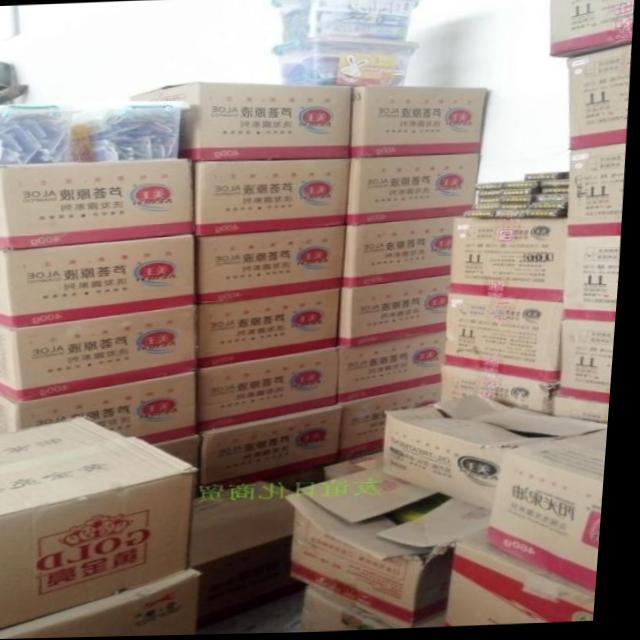box: (0, 416, 206, 632), (290, 466, 498, 629), (389, 397, 615, 514), (493, 429, 614, 597), (0, 305, 201, 401), (0, 158, 198, 249), (0, 236, 198, 327), (131, 83, 354, 163), (0, 568, 210, 639), (0, 371, 202, 444), (452, 532, 605, 627), (202, 405, 350, 491), (0, 100, 191, 165), (203, 347, 344, 432), (194, 160, 351, 236), (198, 226, 348, 305), (202, 289, 345, 368), (449, 294, 569, 384), (453, 216, 570, 304), (353, 88, 492, 159), (348, 155, 482, 226), (200, 482, 304, 569), (343, 384, 446, 464), (344, 275, 455, 348), (346, 218, 456, 289), (344, 332, 450, 404), (274, 39, 420, 88), (566, 45, 631, 153), (272, 0, 422, 44), (558, 322, 620, 426), (444, 364, 565, 416), (569, 146, 628, 239), (309, 585, 416, 633), (550, 0, 634, 61), (569, 238, 624, 324), (158, 435, 206, 469), (497, 211, 570, 219), (524, 173, 570, 182), (534, 195, 571, 204), (506, 182, 542, 191), (533, 204, 571, 212), (542, 180, 570, 190), (500, 203, 534, 211), (478, 183, 508, 192), (468, 211, 497, 220), (502, 196, 533, 204), (476, 204, 503, 212), (501, 191, 534, 197), (543, 189, 570, 196), (483, 191, 506, 199), (482, 197, 503, 205)
